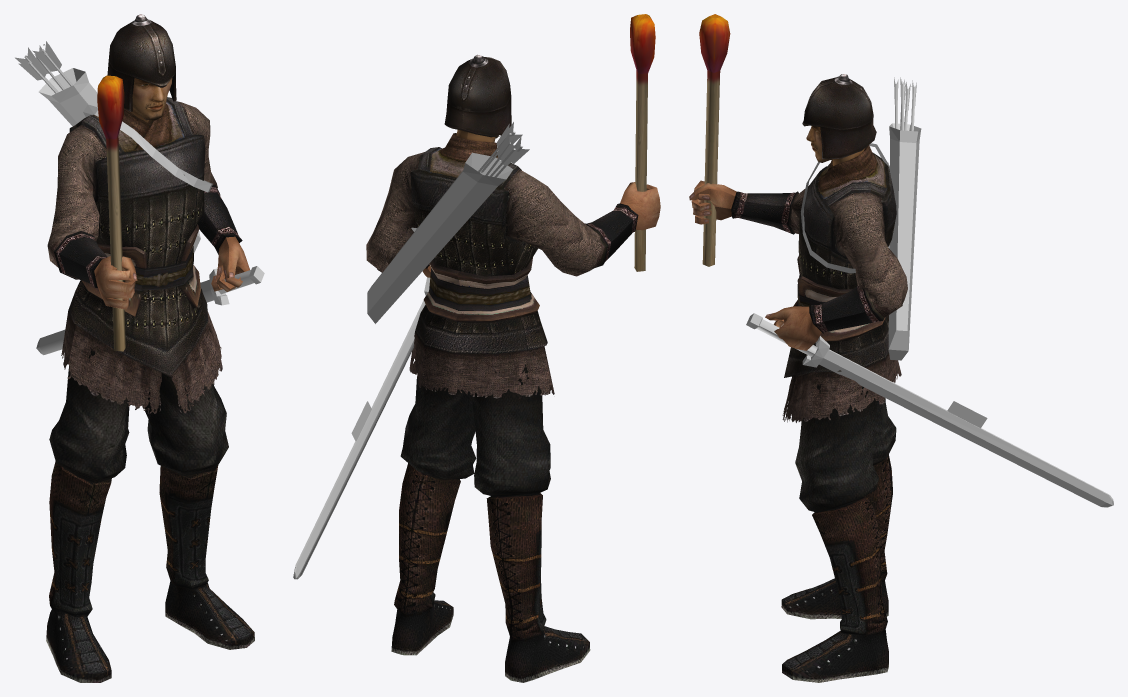
Rendered from males_adult_shibin_03_站立.FBX.
3 renders of one model, left to right at view 1: azimuth 30°, elevation 25°; view 2: azimuth 150°, elevation 25°; view 3: azimuth 270°, elevation 25°, orthographic. The views are drawn at different scales.
Parts seen in each view (by area): view 1: K_ShiBing002, K_GongJianShou001, Props_dianhuobang_01, K_Sword026_Body, K_Sword026_Shell; view 2: K_ShiBing002, K_GongJianShou001, K_Sword026_Shell, Props_dianhuobang_01; view 3: K_ShiBing002, K_GongJianShou001, K_Sword026_Shell, Props_dianhuobang_01, K_Sword026_Body.
Boxes of the visible parts, <box> form: K_ShiBing002: <box>46,14,254,682</box>; K_GongJianShou001: <box>15,41,212,253</box>; Props_dianhuobang_01: <box>97,75,125,351</box>; K_Sword026_Body: <box>209,266,264,305</box>; K_Sword026_Shell: <box>36,279,213,355</box>; K_ShiBing002: <box>366,54,660,682</box>; K_GongJianShou001: <box>367,122,529,323</box>; K_Sword026_Shell: <box>293,294,426,579</box>; Props_dianhuobang_01: <box>630,14,655,271</box>; K_ShiBing002: <box>689,74,907,682</box>; K_GongJianShou001: <box>800,77,921,360</box>; K_Sword026_Shell: <box>819,349,1113,507</box>; Props_dianhuobang_01: <box>699,14,730,266</box>; K_Sword026_Body: <box>746,313,829,367</box>.
Size of the model in its own units: 61.12 by 177 by 117.
